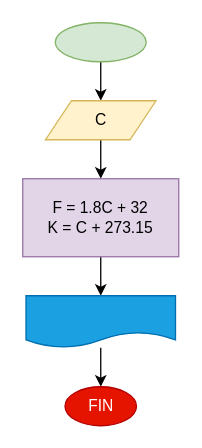
Image size: 202x448. Some labels were removed from this diagram. Each missing label, with the centre of its shape:
"F, K" goes at point 100,321.
"INICIO" goes at point 100,41.
